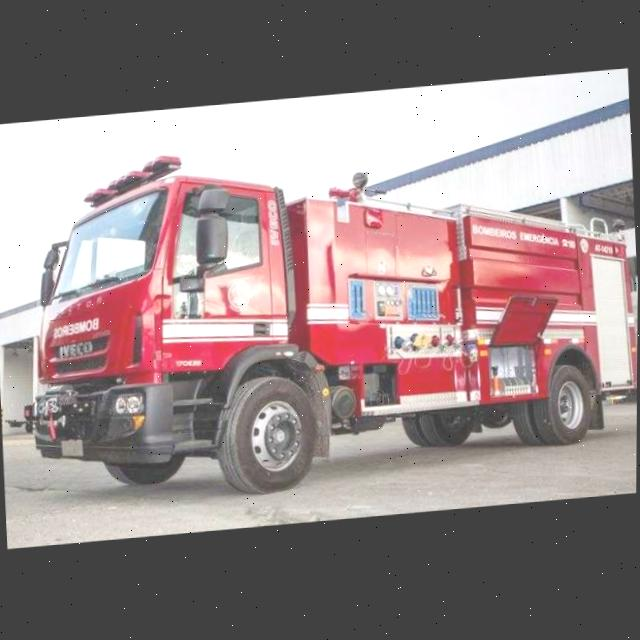emergency: (19, 115, 639, 515)
